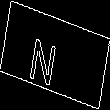N_N: (39, 25, 71, 85)
